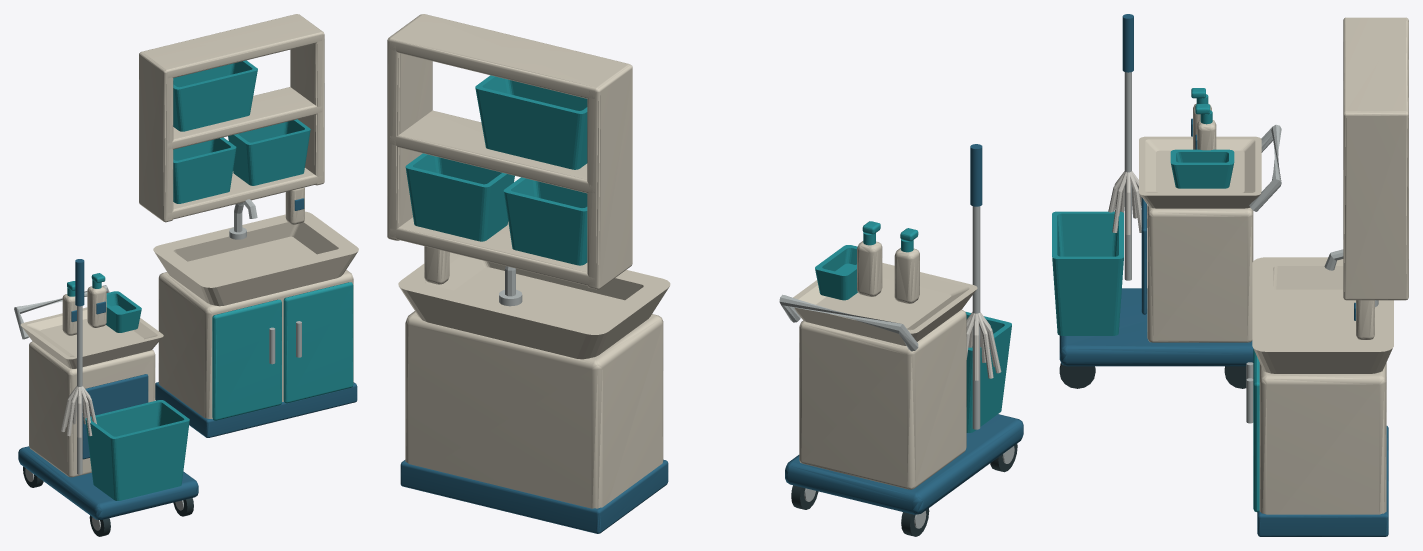
File: 10_janitor_standard_assembly.glb
3 renders of one model, left to right at view 1: azimuth 30°, elevation 25°; view 2: azimuth 150°, elevation 25°; view 3: azimuth 270°, elevation 25°, orthographic. The views are drawn at different scales.
Parts seen in each view (by area): view 1: 10_standard_utility_sink__Static, 10_standard_cleaning_cart__Static, 10_standard_wall_shelf__Static; view 2: 10_standard_utility_sink__Static, 10_standard_wall_shelf__Static, 10_standard_cleaning_cart__Static; view 3: 10_standard_cleaning_cart__Static, 10_standard_utility_sink__Static, 10_standard_wall_shelf__Static.
Part boxes in pixels (bbox=[...]): 10_standard_utility_sink__Static: bbox=[153, 187, 358, 437]; 10_standard_cleaning_cart__Static: bbox=[14, 259, 198, 536]; 10_standard_wall_shelf__Static: bbox=[139, 14, 324, 222]; 10_standard_utility_sink__Static: bbox=[398, 246, 670, 533]; 10_standard_wall_shelf__Static: bbox=[387, 14, 632, 289]; 10_standard_cleaning_cart__Static: bbox=[779, 144, 1023, 536]; 10_standard_cleaning_cart__Static: bbox=[1052, 14, 1281, 388]; 10_standard_utility_sink__Static: bbox=[1246, 249, 1393, 536]; 10_standard_wall_shelf__Static: bbox=[1343, 17, 1408, 300].
Size of the model in its own units: 2.36 by 2.22 by 1.69.
